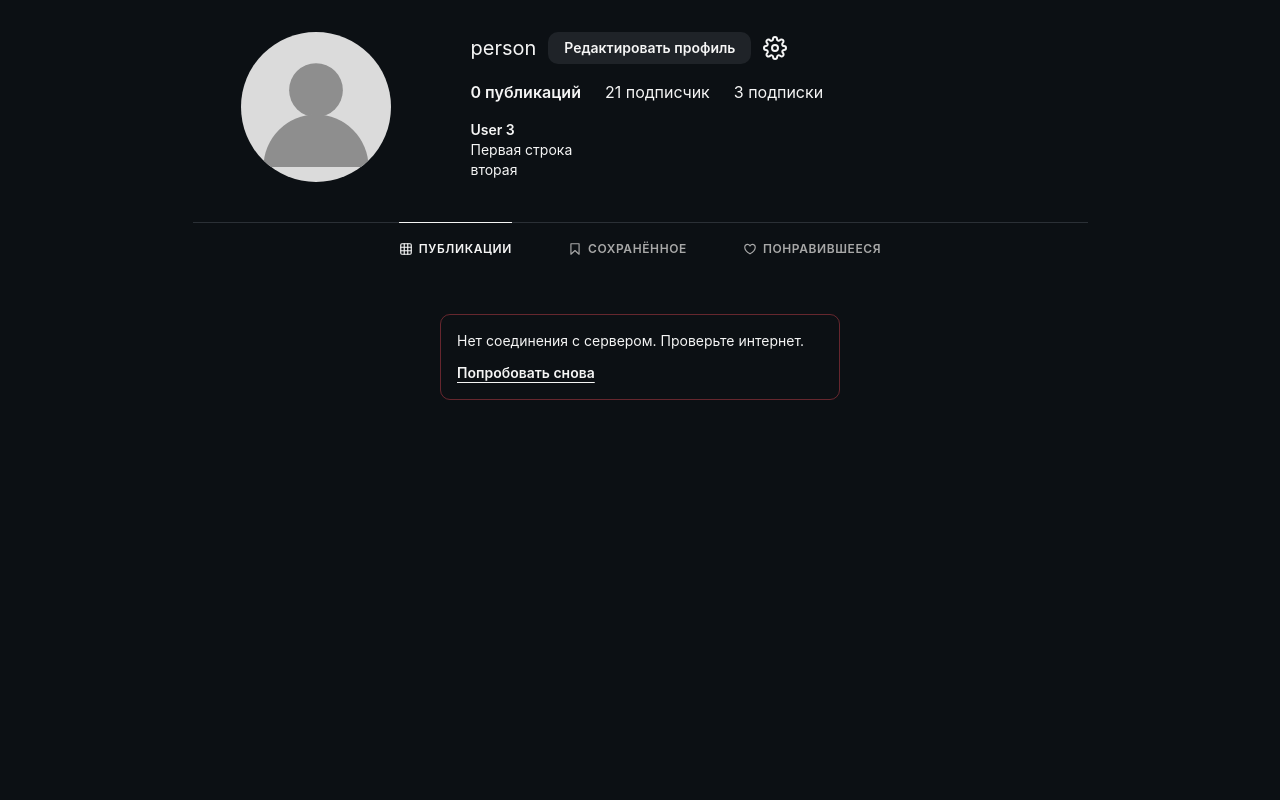
Test: profile page › offers editing on the own profile and lets the owner remove followers
Step 1. Click the button "21 подписчик" → (657, 92), box top-left (605, 80), bottom-right (710, 104)
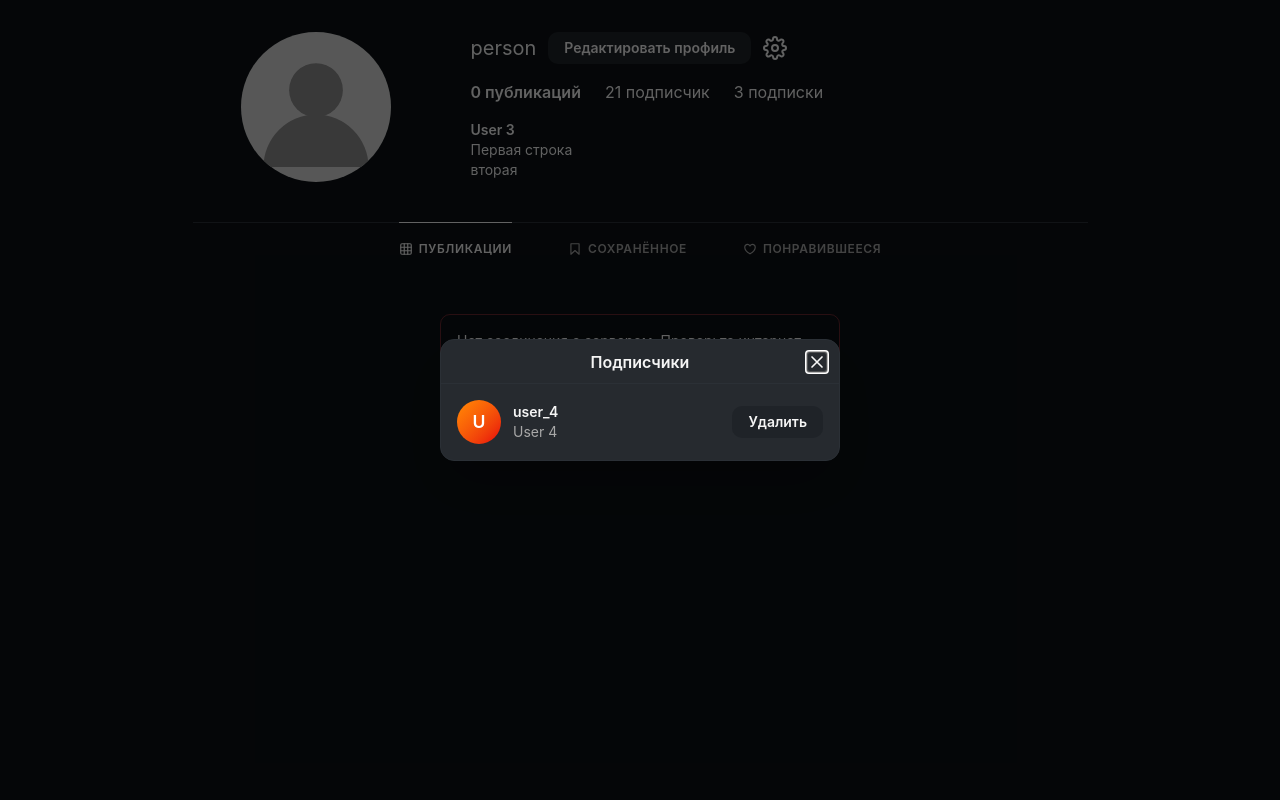
Step 2. Click the button with aria-label "Удалить подписчика user_4" → (778, 422), box top-left (732, 406), bottom-right (823, 438)
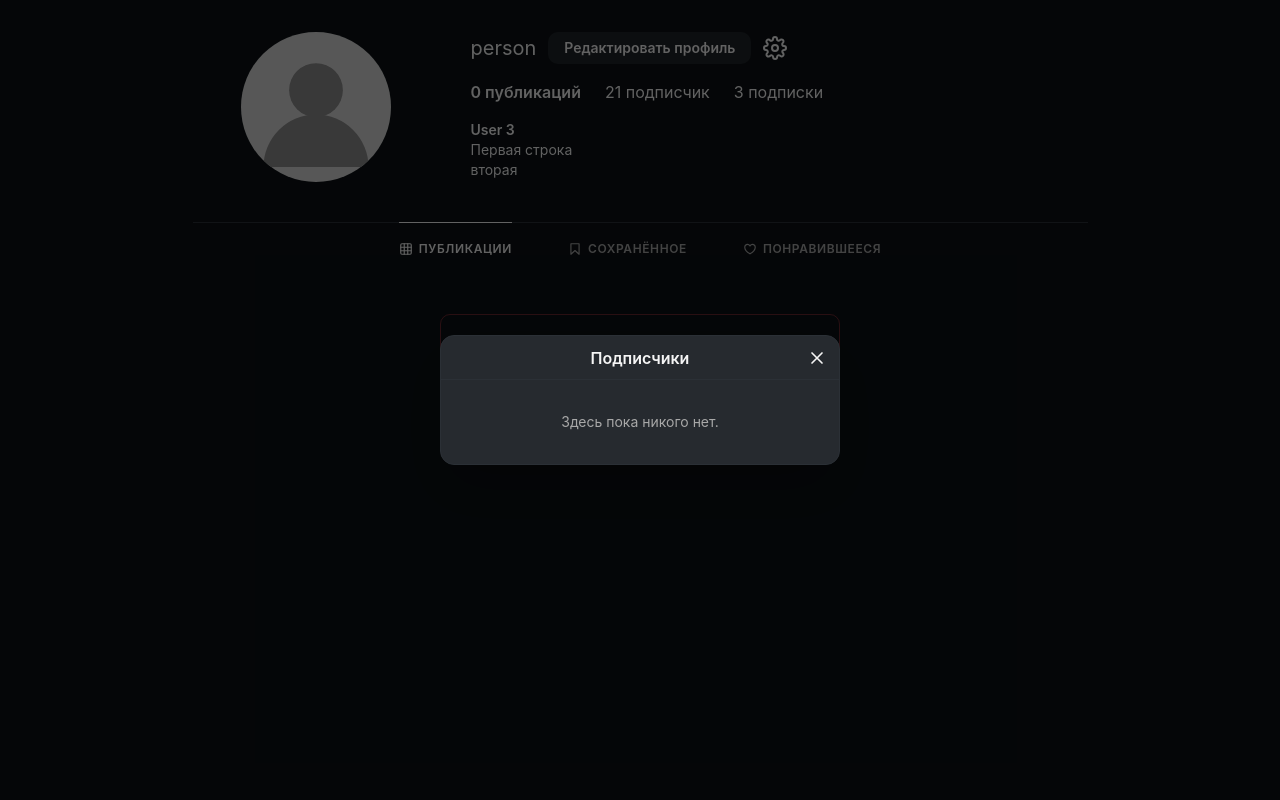
Check: the link "user_4" is gone
